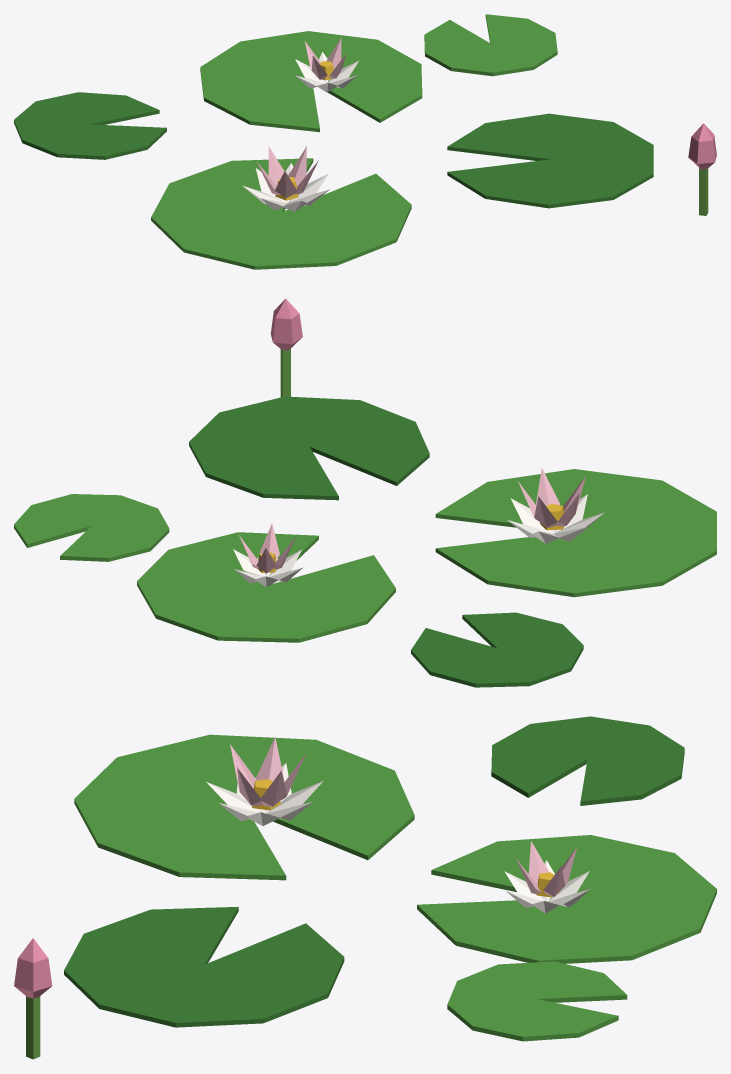
Rendered from water_lilies.glb.
3 views of the same model, one above another, from view 1: azimuth 30°, elevation 25°; view 2: azimuth 150°, elevation 25°; view 3: azimuth 270°, elevation 25° (orthographic). The views are drawn at different scales.
Visible parts, largest first — view 1: water_lilies; view 2: water_lilies; view 3: water_lilies.
Part boxes in pixels (x1,y1,x2,y2): water_lilies: (14, 14, 716, 269); water_lilies: (14, 298, 716, 687); water_lilies: (14, 716, 716, 1059).
Bounding box in the file's own units: 0.7589 × 0.13 × 0.6975.
